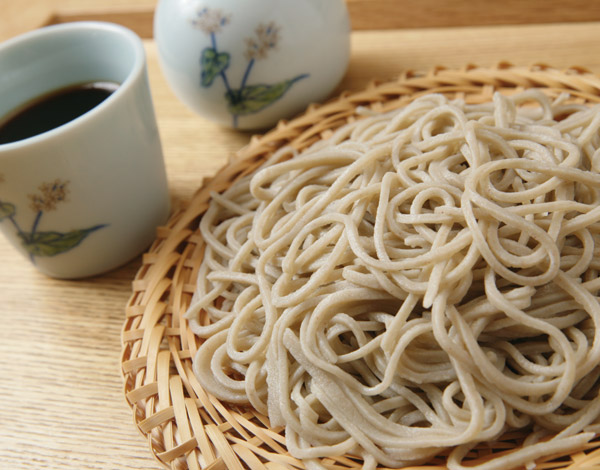Soba: (202, 93, 600, 459)
